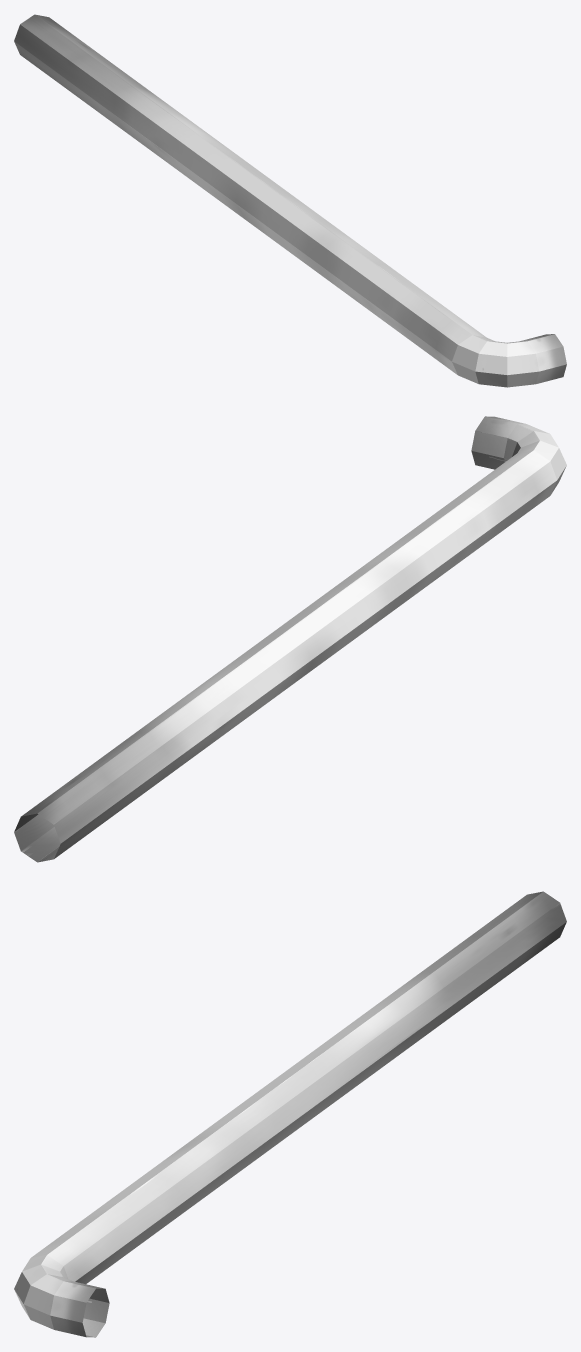
The model's file is pipe.glb.
3 renders of one model, top to bottom at view 1: azimuth 30°, elevation 25°; view 2: azimuth 150°, elevation 25°; view 3: azimuth 330°, elevation 25°, orthographic. The views are drawn at different scales.
Visible parts, largest first — view 1: Cylinder; view 2: Cylinder; view 3: Cylinder.
Part boxes in pixels (bbox=[...]): Cylinder: bbox=[14, 14, 566, 387]; Cylinder: bbox=[14, 416, 566, 862]; Cylinder: bbox=[14, 891, 566, 1337].
Bounding box in the file's own units: 36.28 × 17.92 × 354.
1 material, 1 textured.
